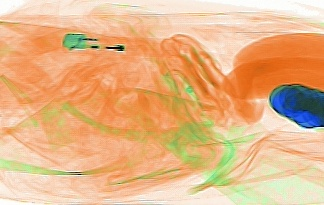lighter: (61, 29, 183, 58)
